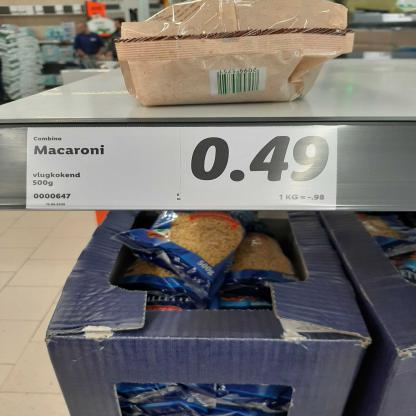prtg: (27, 127, 339, 211)
